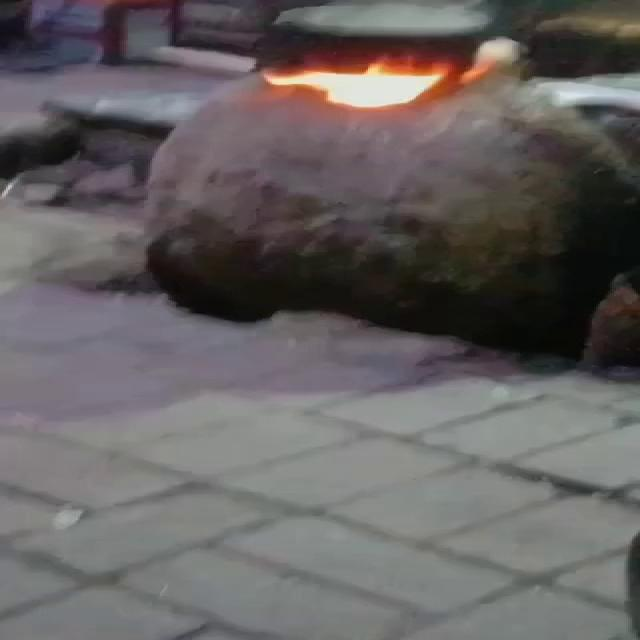Fire: (262, 63, 462, 110)
